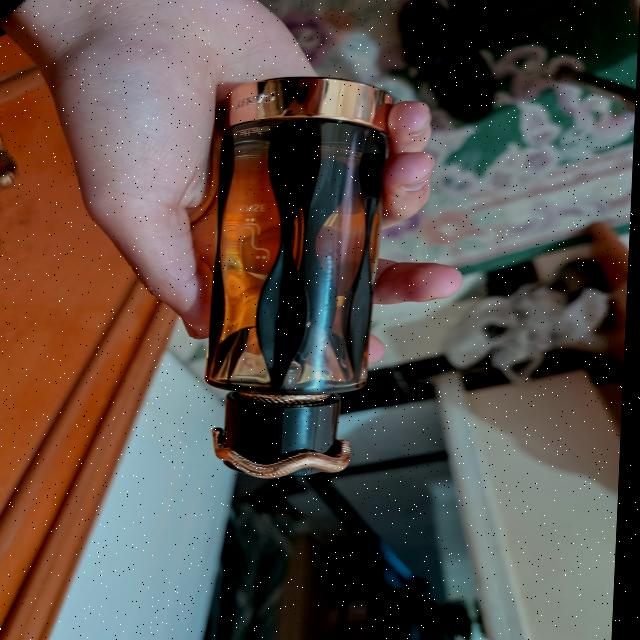Teriaq-Intense: (203, 77, 397, 480)
